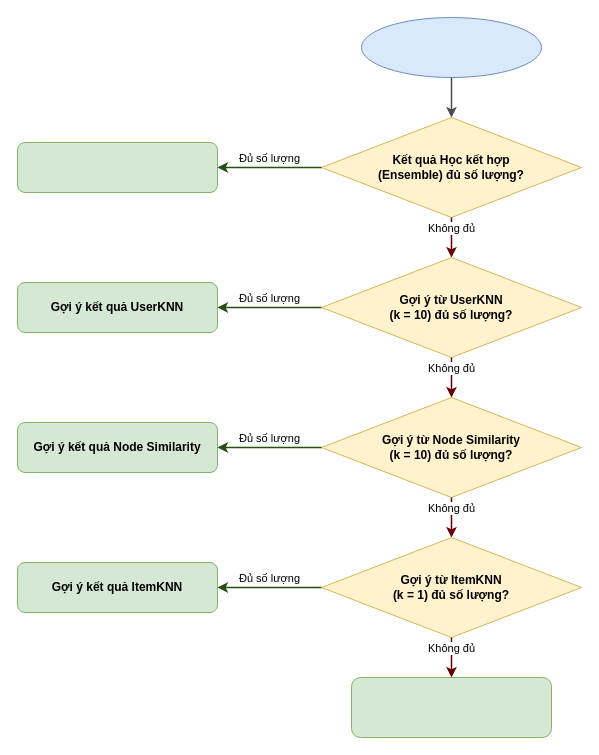
Some shapes in this 599 by 755 pixel diagram are drawn without their labels. Each missing label, with the box of its shape:
Bắt đầu gợi ý Input: (user_id, poi_id): (360, 16, 542, 78)
Gợi ý kết quả Heuristic (k = 10) (Chốt chặn cuối cùng): (350, 676, 552, 738)
Gợi ý kết quả Học kết hợp (Majority Voting): (16, 142, 218, 192)
